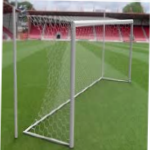goals: (23, 11, 135, 148)
